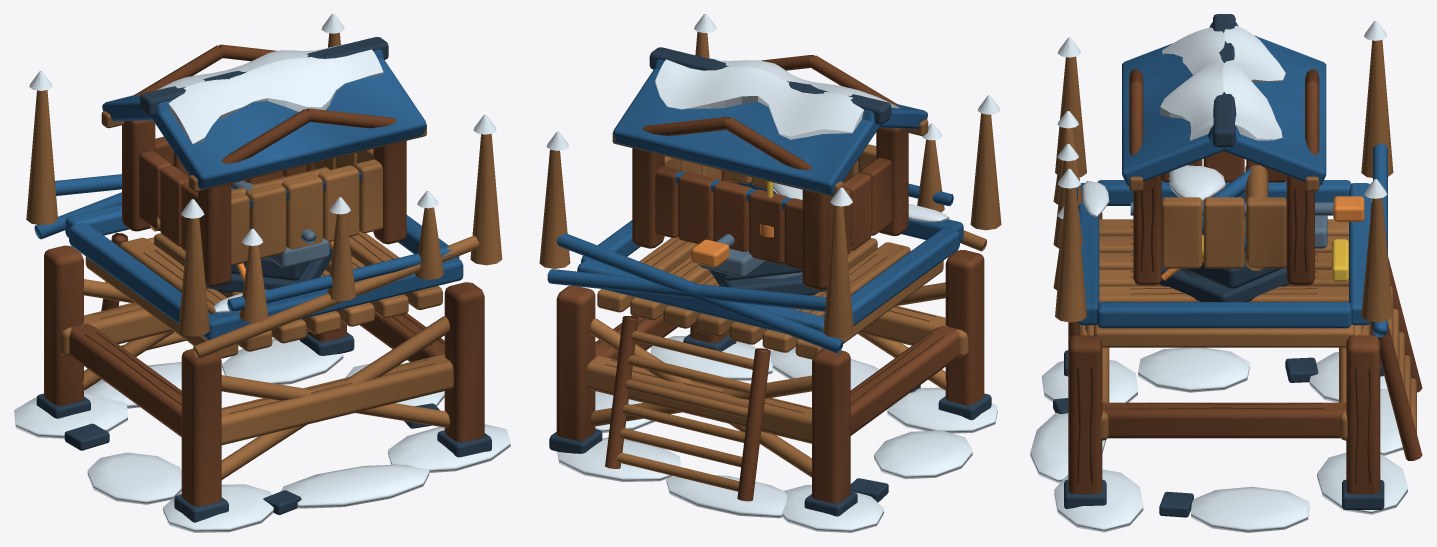
Rendered from defense_platform.glb.
3 renders of one model, left to right at view 1: azimuth 30°, elevation 25°; view 2: azimuth 150°, elevation 25°; view 3: azimuth 270°, elevation 25°, orthographic. The views are drawn at different scales.
Visible parts, largest first — view 1: defense_platform; view 2: defense_platform; view 3: defense_platform.
Part boxes in pixels (x1,y1,x2,y2): defense_platform: (14, 14, 510, 532); defense_platform: (539, 14, 1001, 532); defense_platform: (1030, 14, 1422, 532).
Bounding box in the file's own units: 3.02 × 3 × 2.76.
